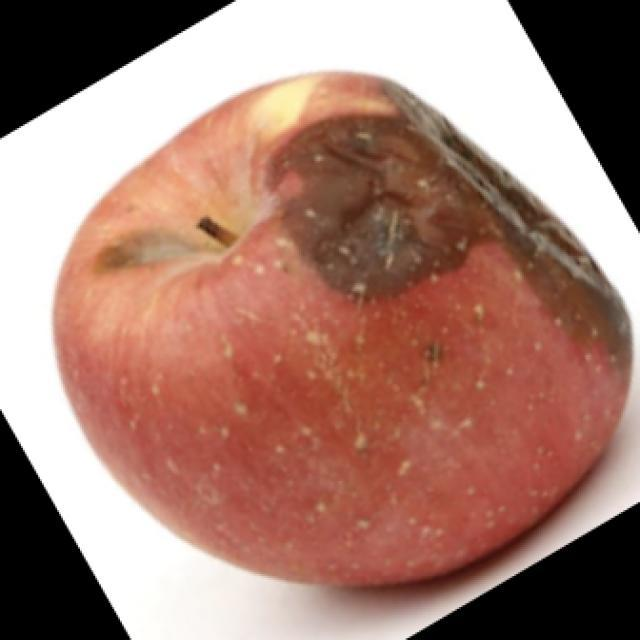Rotten: (60, 75, 610, 598)
